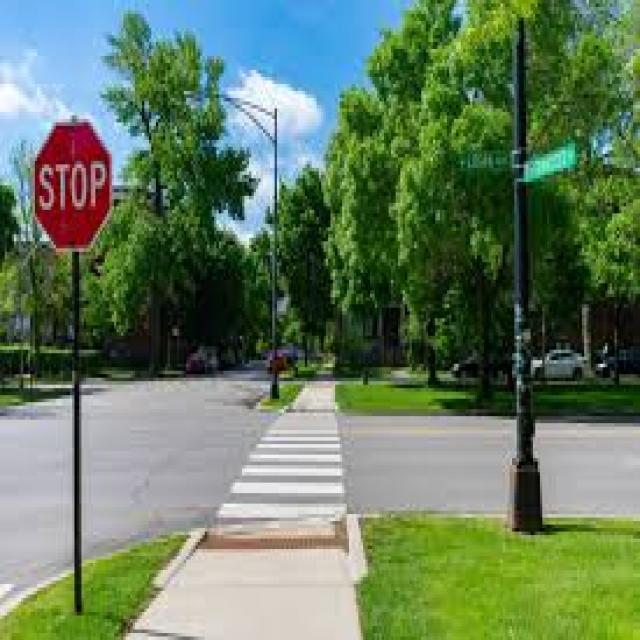stop-sign: (16, 106, 138, 254)
